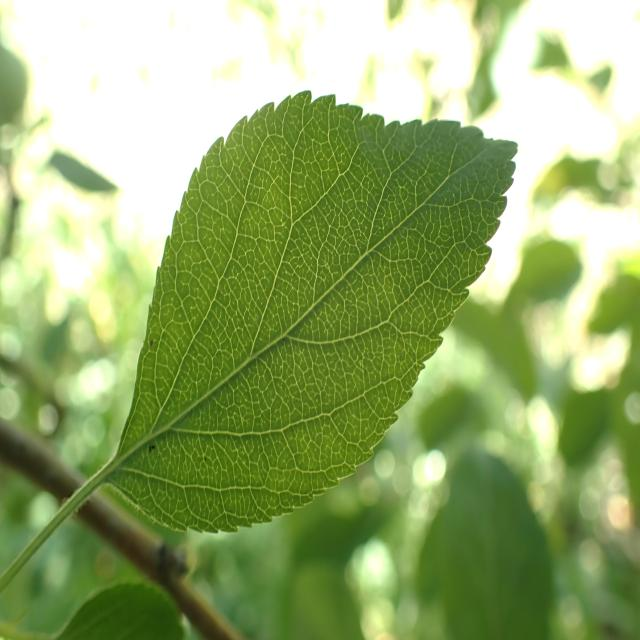healthy: (115, 89, 519, 534), (56, 580, 186, 640)
